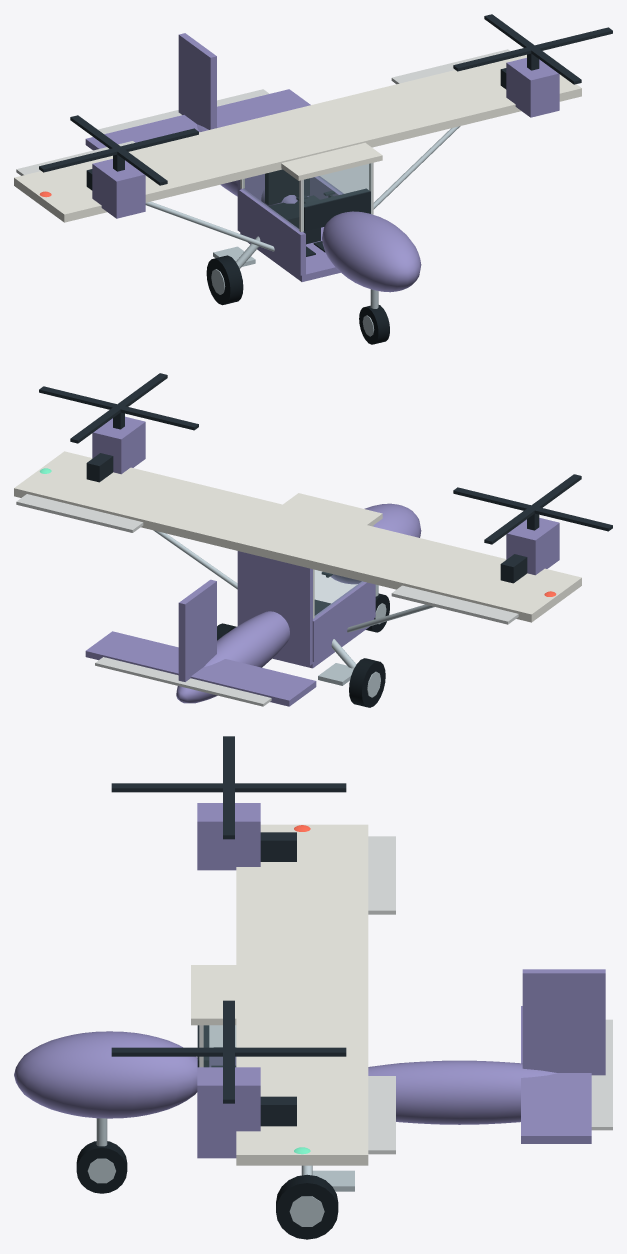
3 views of the same model, one above another, from view 1: azimuth 30°, elevation 25°; view 2: azimuth 150°, elevation 25°; view 3: azimuth 270°, elevation 25° (orthographic). The views are drawn at different scales.
Visible parts, largest first — view 1: aircraft-wing, tiltrotor, aircraft-nose, aircraft-nacelle-body (×2), aircraft-blade (×4), aircraft-side (×2), aircraft-stabilizer, aircraft-fin, aircraft-window (×2), aircraft-roof, aircraft-windshield, aircraft-panel (+5 smaller); view 2: aircraft-wing, tiltrotor, aircraft-bulkhead, aircraft-stabilizer, aircraft-blade (×4), aircraft-nacelle-body (×2), aircraft-tail, aircraft-fin, aircraft-side, aircraft-elevator-hinge, aircraft-roof, aircraft-nose (+2 smaller); view 3: aircraft-wing, aircraft-nose, tiltrotor, aircraft-fin, aircraft-tail, aircraft-nacelle-body (×2), aircraft-blade (×4), aircraft-stabilizer, aircraft-roof, aircraft-nacelle-support (×2), aircraft-elevator-hinge, aircraft-side.
Part boxes in pixels (bbox=[...]): aircraft-wing: bbox=[14, 54, 581, 222]; tiltrotor: bbox=[16, 49, 510, 344]; aircraft-nose: bbox=[322, 211, 421, 292]; aircraft-nacelle-body (×2): bbox=[92, 58, 559, 218]; aircraft-blade (×4): bbox=[39, 14, 612, 185]; aircraft-side (×2): bbox=[239, 176, 343, 275]; aircraft-stabilizer: bbox=[85, 89, 310, 150]; aircraft-fin: bbox=[178, 33, 216, 129]; aircraft-window (×2): bbox=[243, 164, 368, 230]; aircraft-roof: bbox=[281, 142, 382, 180]; aircraft-windshield: bbox=[303, 164, 371, 230]; aircraft-panel: bbox=[304, 188, 370, 231]; aircraft-wing: bbox=[14, 451, 581, 622]; tiltrotor: bbox=[16, 468, 556, 707]; aircraft-bulkhead: bbox=[237, 551, 312, 665]; aircraft-stabilizer: bbox=[85, 631, 316, 706]; aircraft-blade (×4): bbox=[39, 373, 612, 544]; aircraft-nacelle-body (×2): bbox=[92, 416, 559, 575]; aircraft-tail: bbox=[176, 611, 289, 703]; aircraft-fin: bbox=[178, 579, 216, 681]; aircraft-side: bbox=[312, 581, 375, 661]; aircraft-elevator-hinge: bbox=[95, 657, 271, 706]; aircraft-roof: bbox=[283, 493, 382, 526]; aircraft-nose: bbox=[330, 503, 421, 584]; aircraft-wing: bbox=[236, 824, 368, 1165]; aircraft-nose: bbox=[14, 1031, 197, 1118]; tiltrotor: bbox=[76, 825, 395, 1239]; aircraft-fin: bbox=[522, 969, 605, 1075]; aircraft-tail: bbox=[368, 1060, 557, 1124]; aircraft-nacelle-body (×2): bbox=[197, 803, 260, 1134]; aircraft-blade (×4): bbox=[111, 736, 346, 1103]; aircraft-stabilizer: bbox=[521, 1006, 591, 1143]; aircraft-roof: bbox=[191, 965, 236, 1025]; aircraft-nacelle-support (×2): bbox=[260, 832, 296, 1126]; aircraft-elevator-hinge: bbox=[591, 1019, 612, 1130]; aircraft-side: bbox=[197, 1134, 236, 1150].
Size of the model in its own units: 8.8 by 3.07 by 6.13.
